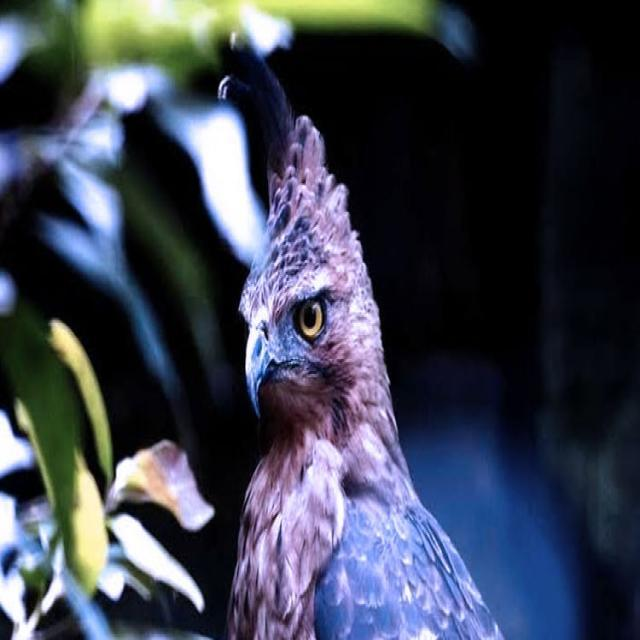Elang Jawa: (195, 11, 514, 640)
